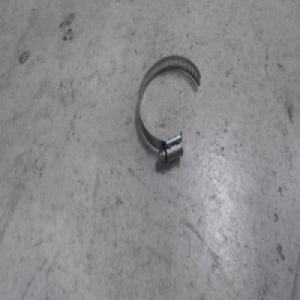AdjustableClamp: (134, 52, 199, 162)
